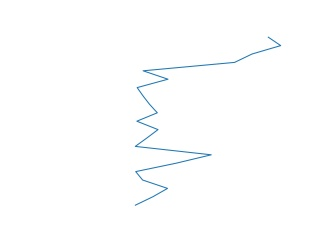crevasseRiverChannelBar: (128, 33, 284, 211)
